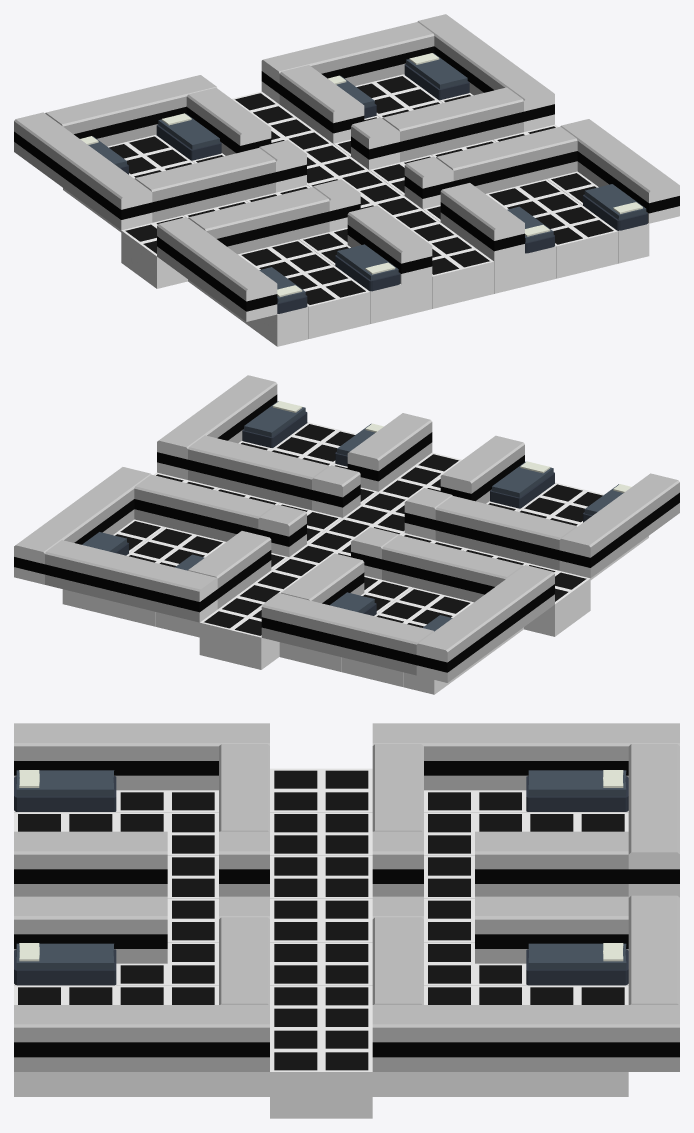
Rendered from bedroomMedium1.fbx.
The picture shows the model from 3 angles, top to bottom: view 1: azimuth 30°, elevation 25°; view 2: azimuth 150°, elevation 25°; view 3: azimuth 270°, elevation 25°; orthographic projection. The views are drawn at different scales.
Parts seen in each view (by area): view 1: Cube.181, Cube.183, Cube.212, Cube.209, Cube.237, Cube.213, Cube.007, Cube.009, Cube.214, Cube.215, Cube.196, Cube.192 (+100 smaller); view 2: Cube.179, Cube.187, Cube.168, Cube.214, Cube.009, Cube.007, Cube.208, Cube.212, Cube.194, Cube.173, Cube.226, Cube.197 (+95 smaller); view 3: Cube.236, Cube.211, Cube.235, Cube, Cube.201, Cube.199, Cube.184, Cube.208, Cube.177, Cube.185, Cube.215, Cube.188 (+130 smaller).
Part boxes in pixels (box(x1,y1,x2,y2)): Cube.181: box(103, 178, 152, 230); Cube.183: box(228, 269, 277, 321); Cube.212: box(351, 117, 399, 169); Cube.209: box(476, 209, 524, 261); Cube.237: box(404, 53, 469, 100); Cube.213: box(156, 113, 221, 160); Cube.007: box(335, 244, 400, 291); Cube.009: box(583, 184, 647, 230); Cube.214: box(404, 156, 453, 208); Cube.215: box(315, 91, 364, 143); Cube.196: box(383, 231, 432, 284); Cube.192: box(631, 171, 679, 223); Cube.179: box(559, 525, 608, 578); Cube.187: box(416, 630, 465, 682); Cube.168: box(169, 570, 217, 622); Cube.214: box(312, 465, 360, 517); Cube.009: box(242, 401, 307, 447); Cube.007: box(490, 461, 554, 508); Cube.208: box(347, 439, 396, 491); Cube.212: box(258, 504, 306, 556); Cube.194: box(230, 617, 279, 669); Cube.173: box(385, 623, 433, 675); Cube.226: box(528, 518, 576, 570); Cube.197: box(440, 462, 489, 503); Cube.236: box(526, 943, 628, 985); Cube.211: box(14, 943, 116, 985); Cube.235: box(526, 770, 628, 811); Cube: box(14, 770, 116, 811); Cube.201: box(270, 1050, 321, 1118); Cube.199: box(321, 1050, 372, 1118); Cube.184: box(116, 723, 167, 790); Cube.208: box(116, 896, 167, 963); Cube.177: box(475, 723, 526, 790); Cube.185: box(167, 723, 218, 790); Cube.215: box(475, 896, 526, 963); Cube.188: box(628, 1005, 679, 1071).
Size of the model in its own units: 2802 by 400 by 2600.
